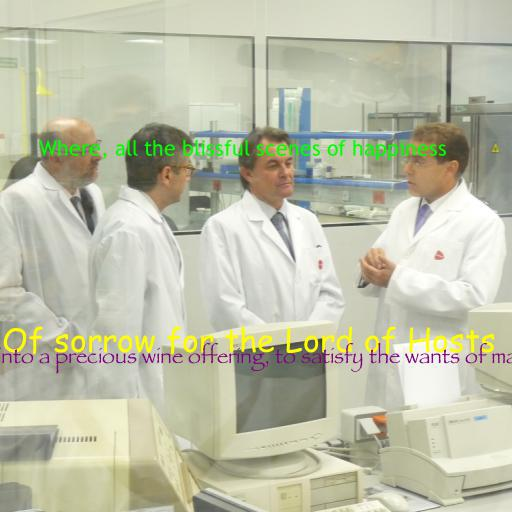Comic Sans MS: (2, 326, 496, 355)
Papyrus: (0, 342, 512, 374)
Trebuchet MS: (39, 139, 447, 161)
